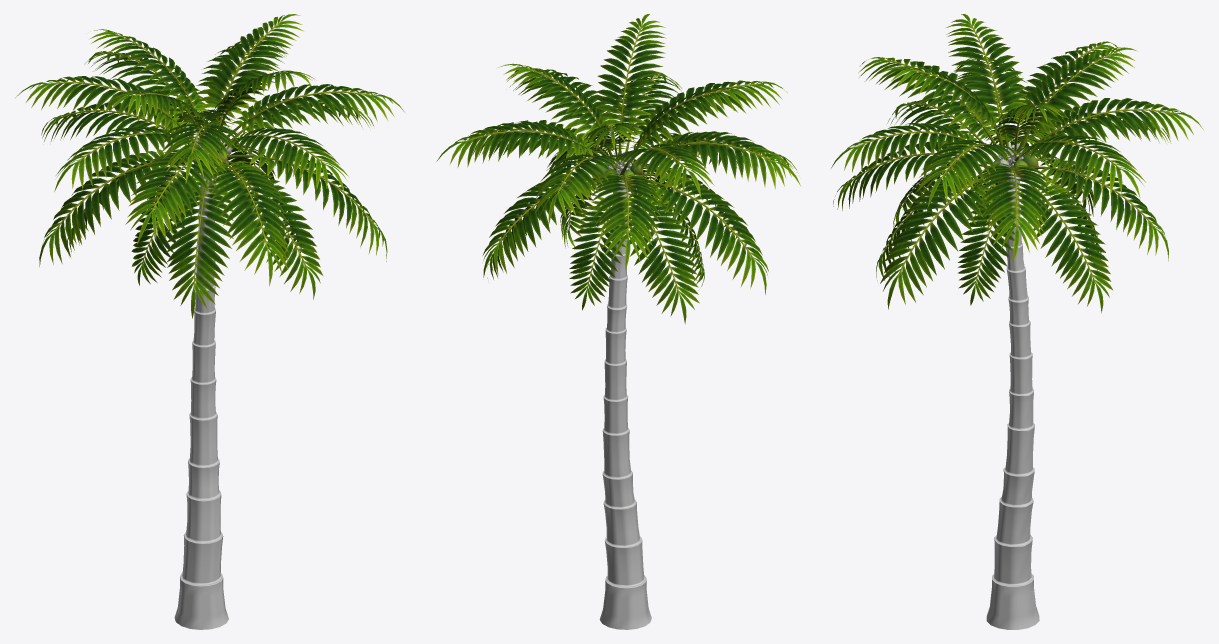
File: palm Tree.fbx
3 renders of one model, left to right at view 1: azimuth 30°, elevation 25°; view 2: azimuth 150°, elevation 25°; view 3: azimuth 270°, elevation 25°, orthographic. The views are drawn at different scales.
Parts seen in each view (by area): view 1: Palm_Trees_02_5, Palm_Trees_02_1; view 2: Palm_Trees_02_5, Palm_Trees_02_1; view 3: Palm_Trees_02_5, Palm_Trees_02_1.
Part boxes in pixels (x1=…): Palm_Trees_02_5: x1=15, y1=14, x2=404, y2=318; Palm_Trees_02_1: x1=174, y1=174, x2=228, y2=629; Palm_Trees_02_5: x1=436, y1=14, x2=800, y2=324; Palm_Trees_02_1: x1=599, y1=186, x2=651, y2=629; Palm_Trees_02_5: x1=831, y1=14, x2=1203, y2=313; Palm_Trees_02_1: x1=986, y1=181, x2=1039, y2=629.
Size of the model in its own units: 46.27 by 75.22 by 44.88.
